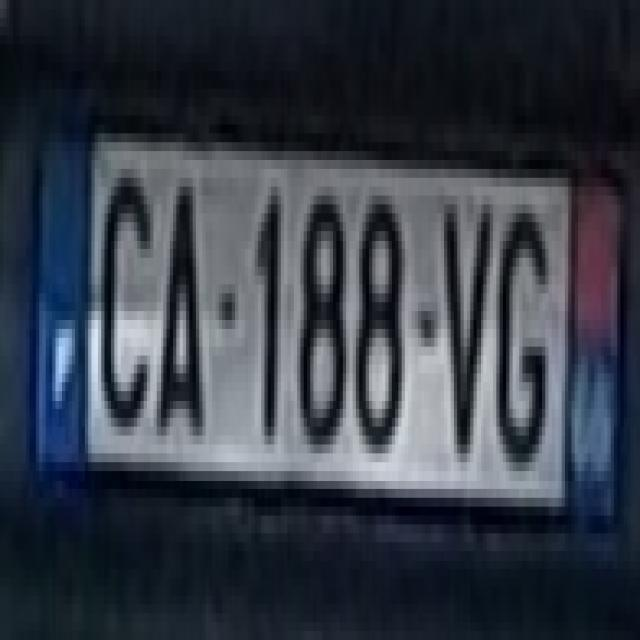EU: (31, 129, 578, 507)
France: (34, 129, 94, 473)
